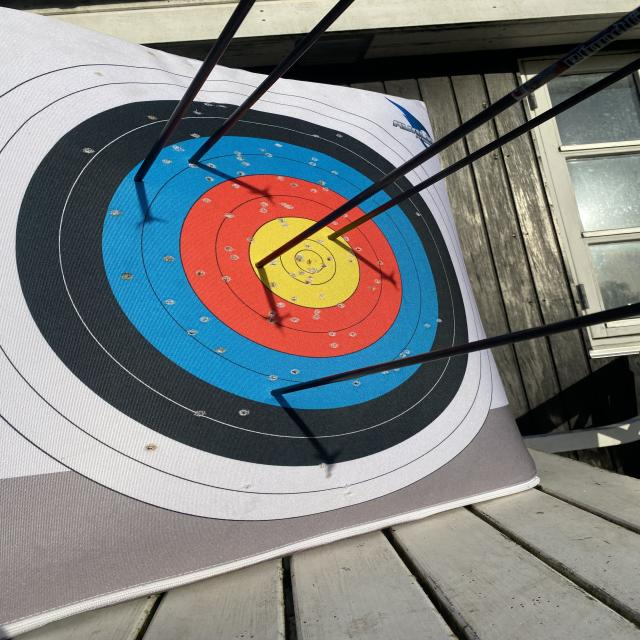Arrow_Blue: (262, 376, 305, 406), (178, 149, 212, 173), (130, 164, 158, 189)
Arrow_Yellow: (250, 246, 289, 278), (316, 226, 356, 252)
